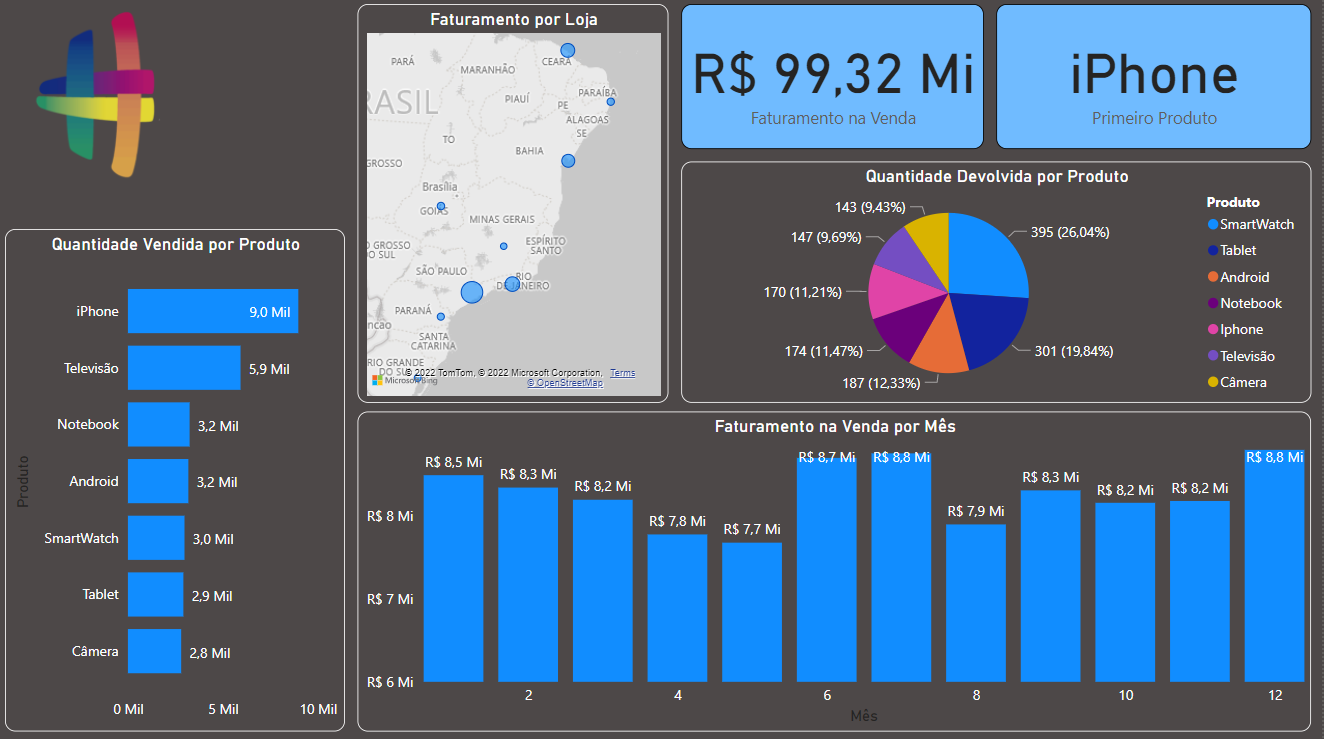

Layout of this report page (visuals, bound fields, positions):
{"tool":"powerbi","page":{"name":"Página 1","canvas":[1280,720],"ordinal":0},"visuals":[{"type":"image","box":[9.6,9.6,173.7,173.7],"z":0},{"type":"barChart","fields":{"Y":["Sum(Base Vendas.Quantidade Vendida)"],"Category":["Base Vendas.Produto"]},"box":[9.6,226.7,328,484.8],"z":1000},{"type":"card","fields":{"Values":["Sum(Base Vendas.Faturamento na Venda)"]},"box":[662.1,9.6,291.9,139.9],"z":2000},{"type":"card","fields":{"Values":["Min(Base Vendas.Produto)"]},"box":[966,9.6,303.9,139.9],"z":3000},{"type":"columnChart","fields":{"Y":["Sum(Base Vendas.Faturamento na Venda)"],"Category":["Base Vendas.Mês"]},"box":[349.7,402.8,920.2,308.7],"z":4000},{"type":"pieChart","fields":{"Y":["Sum(Base Devoluções.Quantidade Devolvida)"],"Category":["Base Devoluções.Produto"]},"box":[662.1,161.6,607.8,232.8],"z":5000},{"type":"map","title":"Faturamento por Loja","fields":{"Category":["Base Vendas.Loja"],"Size":["Sum(Base Vendas.Faturamento na Venda)"]},"box":[349.7,9.6,300.3,384.7],"z":6000}]}

Visuals, with their boxes in screenshot pixels (x1, y1, x2, y2), scaled from the page's 1280x720 canvas onto the 1324x739 screenshot:
image: region(10, 10, 190, 188)
barChart - Sum(Base Vendas.Quantidade Vendida) x Base Vendas.Produto: region(10, 233, 349, 730)
card - Sum(Base Vendas.Faturamento na Venda): region(685, 10, 987, 153)
card - Min(Base Vendas.Produto): region(999, 10, 1314, 153)
columnChart - Sum(Base Vendas.Faturamento na Venda) x Base Vendas.Mês: region(362, 413, 1314, 730)
pieChart - Sum(Base Devoluções.Quantidade Devolvida) x Base Devoluções.Produto: region(685, 166, 1314, 405)
"Faturamento por Loja" map: region(362, 10, 672, 405)
